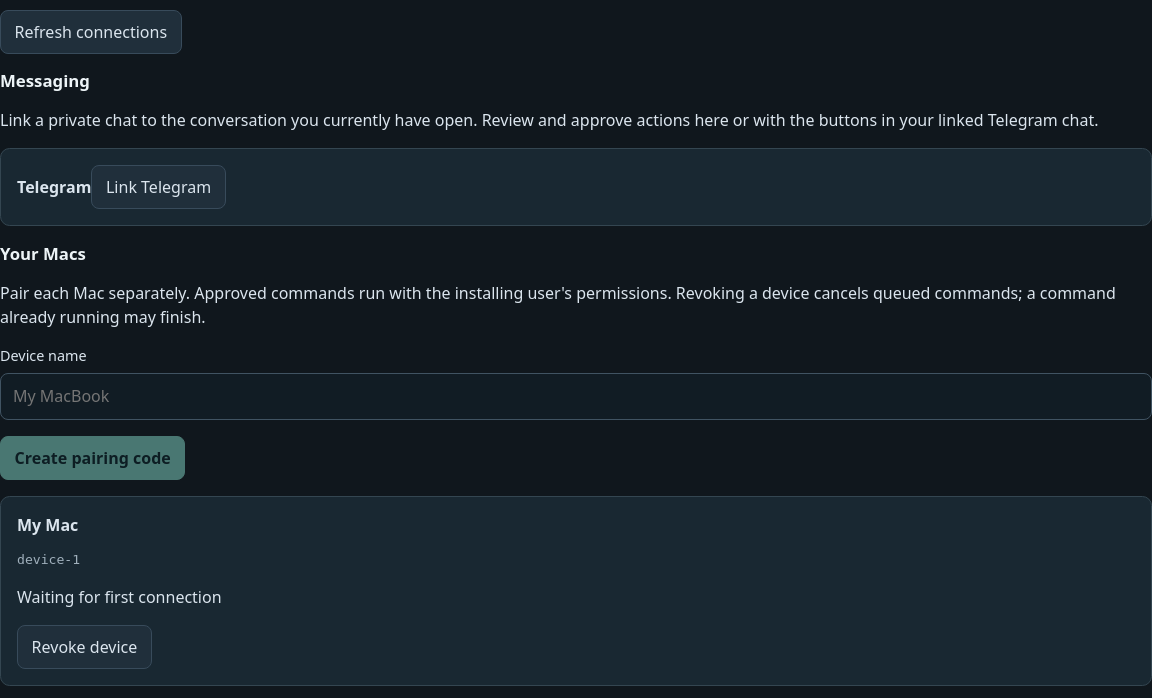
Test: connection management › links Telegram to the currently selected conversation
What coordinates should you click on to do the following:
click the button "Link Telegram"
I would click on:
 (159, 187)
Its box is [91, 165, 226, 209].
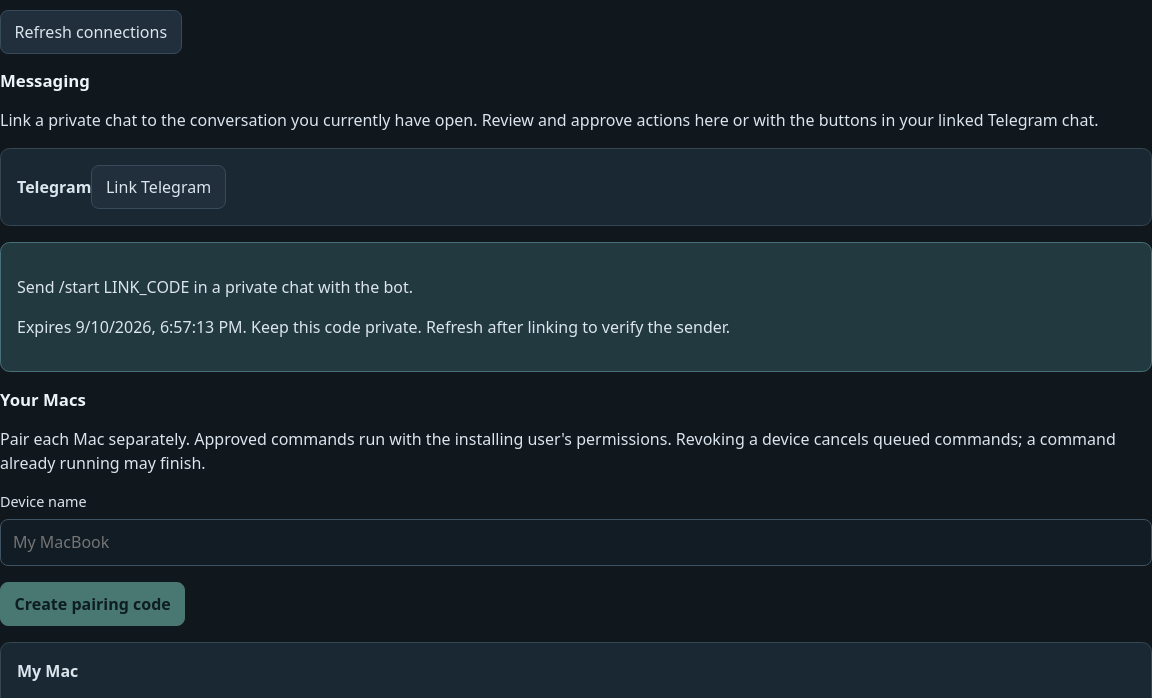
Check: the text "Send /start LINK_CODE in a private chat with the bot." is shown, box [17, 276, 413, 298]
